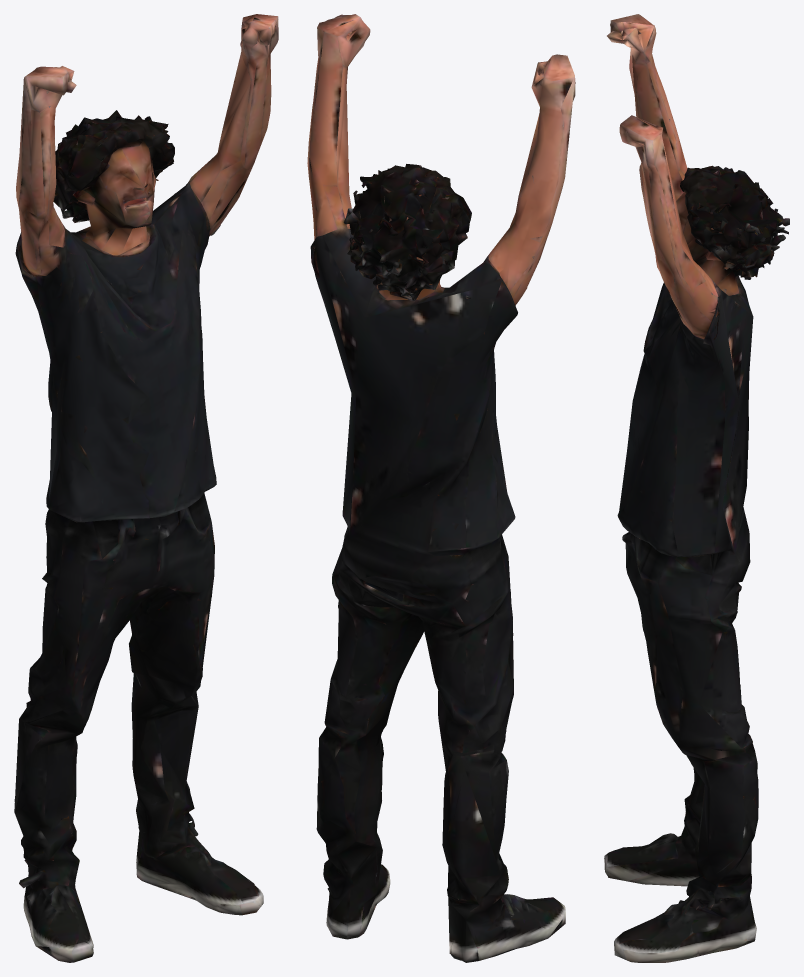
Rendered from fan-arms-up-s1-lo.glb.
The picture shows the model from 3 angles, left to right: view 1: azimuth 30°, elevation 25°; view 2: azimuth 150°, elevation 25°; view 3: azimuth 270°, elevation 25°; orthographic projection. The views are drawn at different scales.
Parts seen in each view (by area): view 1: geometry_0; view 2: geometry_0; view 3: geometry_0.
Boxes of the visible parts, box(x1,y1,x2,y2) form: geometry_0: box(14, 14, 278, 962); geometry_0: box(307, 14, 575, 962); geometry_0: box(604, 14, 789, 962).
Size of the model in its own units: 0.3043 by 0.9997 by 0.1988.
1 material, 1 textured.
